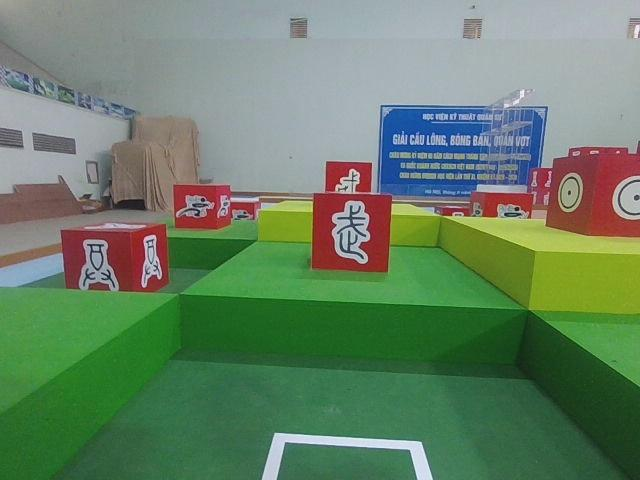R1: (172, 178, 232, 232)
R2 Fake: (309, 189, 394, 276)
R2 Real: (57, 218, 172, 298), (543, 149, 640, 242)
